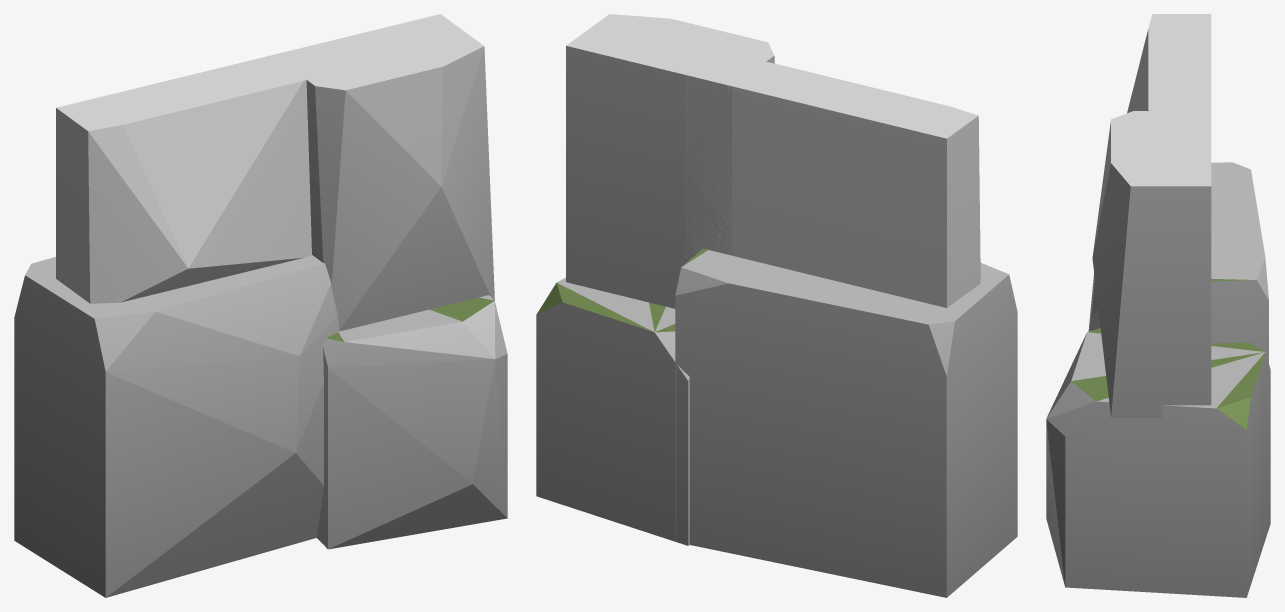
3 views of the same model, side by side, from view 1: azimuth 30°, elevation 25°; view 2: azimuth 150°, elevation 25°; view 3: azimuth 270°, elevation 25° (orthographic). The views are drawn at different scales.
Parts seen in each view (by area): view 1: rk_ch2_2; view 2: rk_ch2_2; view 3: rk_ch2_2.
Part boxes in pixels (x1,y1,x2,y2): rk_ch2_2: (14, 14, 507, 597); rk_ch2_2: (536, 14, 1017, 597); rk_ch2_2: (1046, 14, 1270, 597).
Size of the model in its own units: 19.16 by 19.5 by 9.76.
